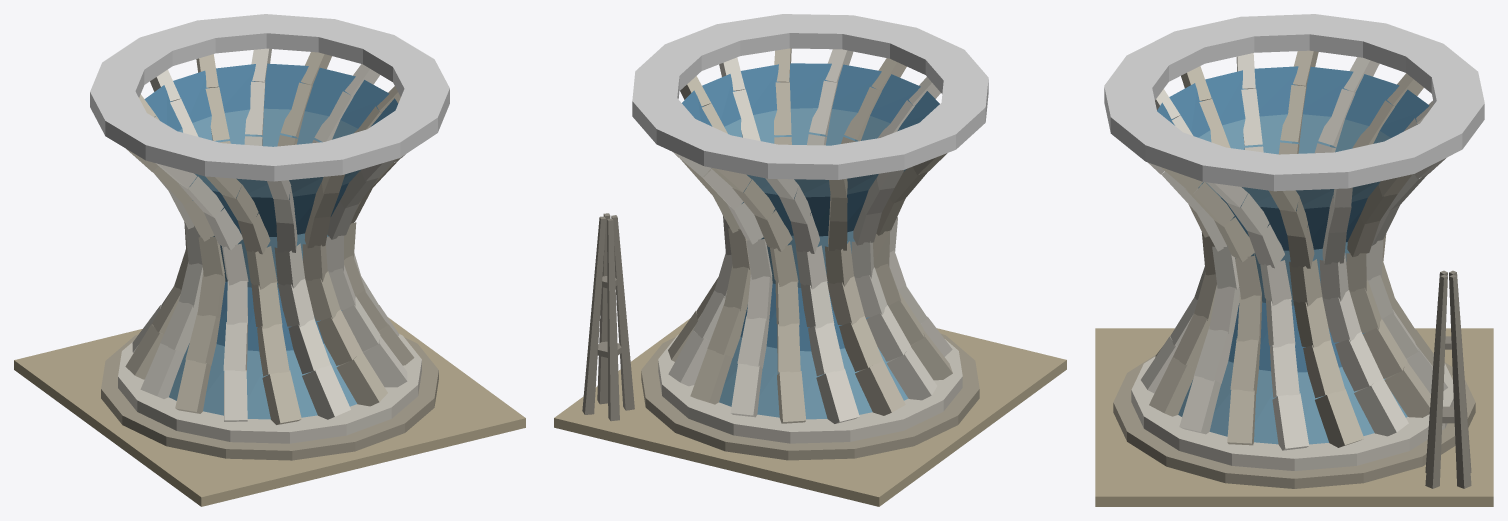
Rendered from cathedraleBrasilia.glb.
The picture shows the model from 3 angles, left to right: view 1: azimuth 30°, elevation 25°; view 2: azimuth 150°, elevation 25°; view 3: azimuth 270°, elevation 25°; orthographic projection. The views are drawn at different scales.
Visible parts, largest first — view 1: cathedraleBrasilia; view 2: cathedraleBrasilia; view 3: cathedraleBrasilia.
Part boxes in pixels (x1,y1,x2,y2): cathedraleBrasilia: (14,14,525,506); cathedraleBrasilia: (554,14,1066,506); cathedraleBrasilia: (1095,14,1493,506).
Bounding box in the file's own units: 1.76 × 1.6 × 1.76.
